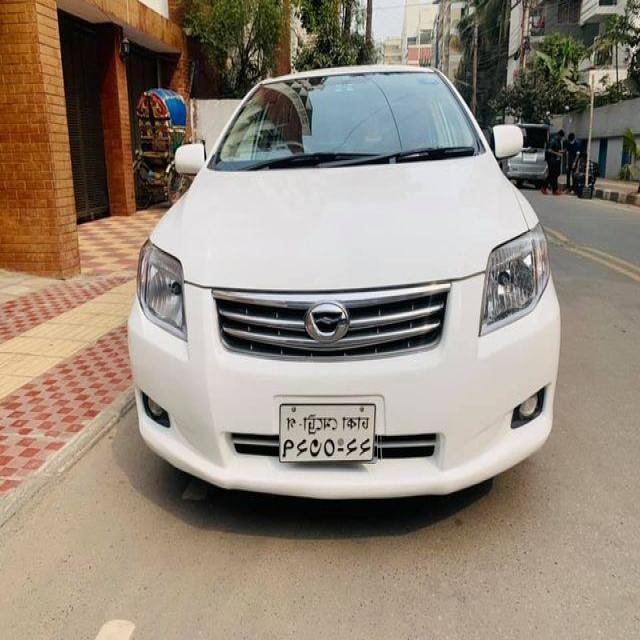numberplate: (279, 401, 377, 463)
